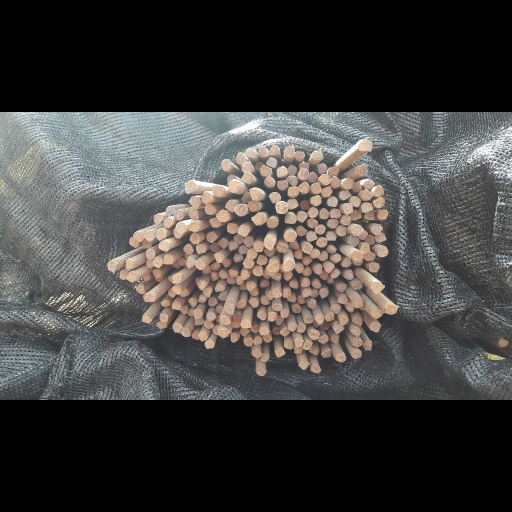dipstick: (357, 139, 373, 153), (251, 211, 267, 224), (382, 303, 398, 316), (241, 171, 255, 185), (184, 180, 197, 195), (215, 209, 229, 222), (349, 224, 362, 237), (228, 179, 240, 193), (276, 200, 288, 214), (283, 230, 297, 242), (264, 217, 279, 228), (211, 184, 223, 197), (233, 204, 246, 216), (247, 200, 260, 212), (245, 147, 257, 160), (259, 164, 272, 176), (268, 191, 281, 203), (263, 237, 276, 249), (318, 173, 331, 185), (356, 164, 368, 177), (360, 188, 373, 200), (372, 184, 384, 197), (360, 201, 373, 213), (284, 212, 297, 224), (295, 210, 307, 223), (335, 225, 348, 237), (202, 203, 216, 214), (310, 150, 324, 161), (338, 189, 352, 200), (201, 191, 213, 203), (188, 196, 200, 208), (220, 159, 232, 171), (297, 167, 309, 179), (276, 165, 288, 177), (298, 181, 310, 193), (310, 182, 322, 194), (349, 195, 361, 207), (301, 242, 313, 254), (372, 281, 384, 293), (225, 199, 236, 212), (106, 260, 117, 273), (249, 188, 260, 201), (264, 246, 277, 257), (285, 175, 298, 186), (330, 175, 341, 188), (361, 179, 374, 190), (372, 197, 385, 208), (370, 223, 383, 234), (376, 246, 389, 257), (370, 309, 383, 320), (209, 217, 221, 228), (189, 232, 200, 244), (205, 232, 217, 243), (155, 228, 166, 240), (158, 241, 170, 252), (127, 271, 138, 283), (227, 222, 238, 234), (237, 225, 249, 236), (242, 258, 254, 269), (241, 191, 252, 203), (235, 152, 247, 163), (258, 146, 270, 157), (264, 175, 275, 187), (256, 254, 268, 265), (284, 259, 295, 271), (283, 146, 295, 157), (276, 179, 288, 190), (287, 186, 299, 197), (316, 162, 327, 174), (327, 166, 339, 177), (377, 209, 389, 220), (342, 203, 353, 215), (329, 208, 341, 219), (310, 195, 322, 206), (286, 198, 298, 209), (307, 206, 318, 218), (295, 225, 307, 236), (307, 217, 319, 228), (339, 214, 351, 225), (364, 234, 376, 245), (347, 236, 359, 247), (359, 241, 370, 253), (325, 230, 337, 241), (316, 237, 328, 248), (330, 253, 342, 264), (368, 262, 380, 273), (322, 261, 334, 272), (369, 321, 381, 332), (350, 348, 362, 359), (363, 211, 376, 221), (374, 232, 387, 242), (351, 249, 364, 259), (176, 222, 187, 233), (172, 228, 183, 239), (144, 230, 155, 241), (195, 243, 206, 254), (163, 254, 174, 265), (152, 257, 163, 268), (179, 327, 190, 338), (213, 252, 224, 263), (253, 241, 264, 252), (266, 157, 277, 168), (269, 144, 280, 155), (256, 310, 267, 321), (342, 178, 353, 189), (351, 181, 362, 192), (327, 196, 338, 207), (299, 199, 310, 210), (306, 231, 317, 242), (352, 297, 363, 308), (309, 329, 320, 340), (188, 220, 198, 232), (143, 292, 155, 302), (218, 327, 228, 339), (247, 248, 257, 260), (241, 162, 253, 172), (276, 242, 288, 252), (274, 347, 286, 357), (320, 186, 332, 196), (350, 210, 362, 220), (319, 207, 329, 219), (314, 224, 326, 234), (327, 218, 339, 228), (351, 257, 363, 267), (351, 280, 363, 290), (335, 283, 347, 293), (351, 316, 363, 326), (350, 327, 362, 337), (363, 339, 373, 351), (298, 360, 310, 370), (188, 209, 199, 219), (172, 210, 183, 220), (162, 218, 173, 228), (128, 236, 138, 247), (182, 244, 193, 254), (145, 248, 155, 259), (125, 259, 135, 270), (118, 269, 128, 280), (135, 283, 145, 294), (187, 297, 198, 307), (205, 311, 216, 321), (210, 241, 220, 252), (218, 238, 228, 249), (228, 268, 239, 278), (224, 304, 234, 315), (219, 315, 230, 325), (233, 234, 244, 244), (243, 237, 254, 247), (238, 245, 249, 255), (252, 265, 262, 276), (240, 269, 250, 280), (262, 269, 272, 280), (248, 297, 258, 308), (271, 288, 282, 298), (231, 312, 241, 323), (243, 336, 253, 347), (251, 348, 261, 359), (284, 338, 294, 349), (307, 171, 317, 182), (365, 250, 375, 261), (318, 250, 328, 261), (341, 256, 351, 267), (302, 255, 312, 266), (302, 266, 312, 277), (344, 269, 354, 280), (300, 277, 310, 288), (319, 288, 329, 299), (306, 299, 317, 309), (319, 320, 330, 330), (330, 304, 341, 314), (317, 334, 328, 344), (330, 333, 340, 344), (333, 323, 344, 333), (338, 314, 348, 325), (351, 337, 362, 347), (335, 352, 346, 362), (321, 348, 332, 358), (240, 320, 252, 329), (238, 327, 250, 336), (255, 367, 267, 376), (267, 311, 276, 323), (293, 151, 305, 160), (288, 240, 300, 249), (310, 364, 322, 373), (153, 214, 163, 224), (194, 260, 204, 270), (167, 288, 177, 298), (141, 313, 151, 323), (159, 312, 169, 322), (171, 301, 181, 311), (204, 339, 214, 349), (203, 319, 213, 329), (207, 297, 217, 307), (197, 280, 207, 290), (201, 287, 211, 297), (217, 291, 227, 301), (228, 241, 238, 251), (254, 161, 264, 171), (268, 262, 278, 272), (283, 271, 293, 281), (236, 299, 246, 309), (260, 295, 270, 305), (259, 326, 269, 336), (279, 308, 289, 318), (287, 321, 297, 331), (291, 303, 301, 313), (310, 249, 320, 259), (293, 249, 303, 259), (319, 270, 329, 280), (311, 279, 321, 289), (302, 288, 312, 298), (296, 322, 306, 332), (313, 314, 323, 324), (325, 311, 335, 321), (165, 206, 176, 215), (132, 232, 143, 241), (171, 286, 182, 295), (155, 321, 166, 330), (172, 322, 181, 333), (198, 330, 207, 341), (193, 317, 204, 326), (229, 332, 238, 343), (233, 253, 244, 262), (226, 174, 237, 183), (246, 281, 257, 290), (259, 279, 270, 288), (271, 302, 282, 311), (299, 161, 310, 170), (288, 164, 297, 175), (358, 229, 367, 240), (326, 244, 337, 253), (294, 262, 303, 273), (313, 264, 322, 275), (337, 296, 348, 305), (345, 301, 354, 312), (303, 339, 312, 350), (309, 345, 318, 356), (141, 239, 151, 248), (177, 258, 187, 267), (185, 258, 194, 268), (145, 258, 154, 268), (151, 268, 161, 277), (197, 293, 206, 303), (209, 272, 219, 281), (219, 269, 228, 279), (215, 283, 225, 292), (236, 275, 245, 285), (266, 266, 275, 276), (272, 272, 282, 281), (282, 288, 291, 298), (250, 324, 259, 334), (262, 334, 272, 343), (275, 315, 284, 325), (281, 326, 290, 336), (287, 293, 296, 303), (303, 315, 313, 324), (293, 337, 303, 346), (266, 290, 274, 301), (171, 274, 180, 283), (190, 331, 199, 340), (193, 309, 202, 318), (289, 280, 298, 289), (253, 336, 262, 345), (260, 353, 269, 362), (331, 269, 340, 278), (310, 289, 319, 298), (297, 295, 306, 304), (170, 262, 180, 270), (181, 288, 189, 298), (179, 305, 187, 315), (201, 266, 211, 274), (226, 276, 236, 284), (230, 320, 240, 328), (272, 326, 280, 336), (293, 346, 303, 354), (211, 262, 220, 270), (221, 259, 230, 267), (215, 305, 223, 314), (238, 283, 247, 291), (326, 275, 334, 284), (160, 300, 170, 307), (212, 325, 219, 335), (249, 288, 259, 295), (280, 263, 287, 273), (142, 273, 150, 281), (154, 276, 163, 283), (186, 309, 194, 316), (215, 314, 220, 324), (167, 275, 173, 283), (194, 277, 200, 285), (313, 320, 319, 328), (184, 252, 189, 260)
